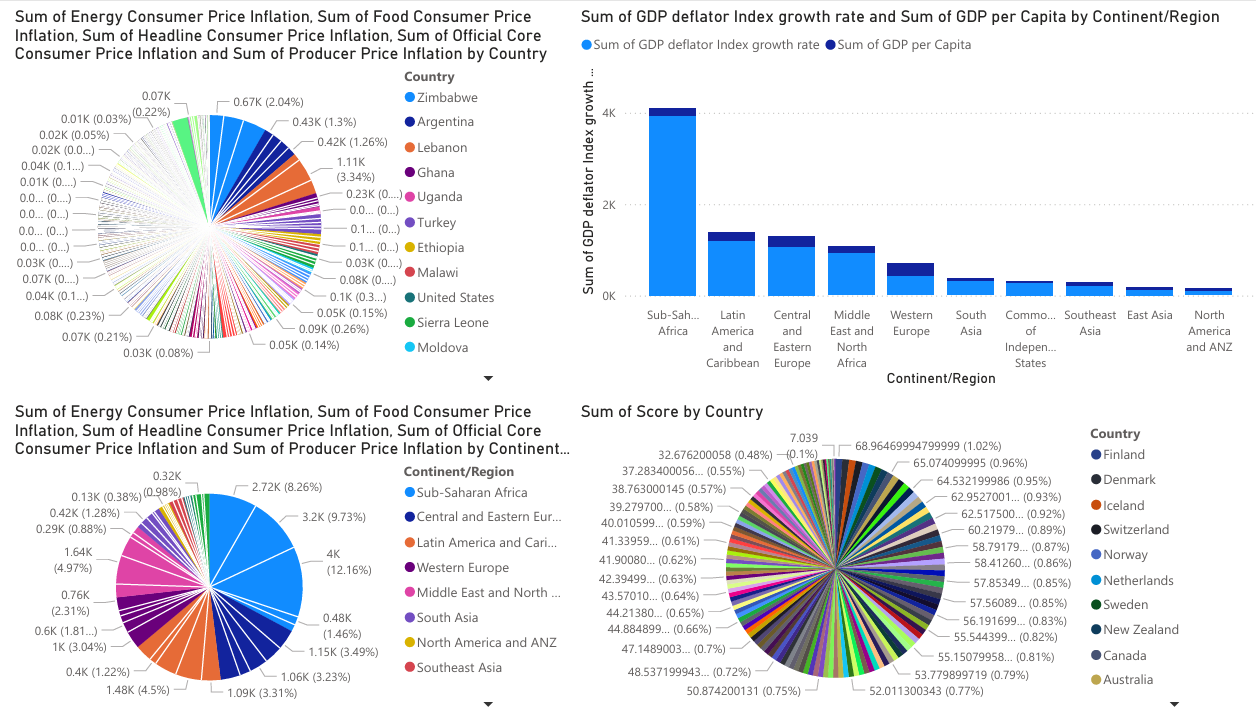

What the dashboard file says about the page in this screenshot:
{"tool":"powerbi","page":{"name":"Page 1","canvas":[1280,720],"ordinal":0},"visuals":[{"type":"pieChart","fields":{"Category":["Table1.Country"],"Y":["Sum(Table1.Energy Consumer Price Inflation)","Sum(Table1.Food Consumer Price Inflation)","Sum(Table1.Headline Consumer Price Inflation)","Sum(Table1.Official Core Consumer Price Inflation)","Sum(Table1.Producer Price Inflation)"]},"box":[10.9,0,573.5,390.2],"z":0},{"type":"columnChart","fields":{"Category":["Table1.Continent/Region"],"Y":["Sum(Table1.GDP deflator Index growth rate)","Sum(Table1.GDP per Capita)"]},"box":[584.4,0,695.1,390.2],"z":1},{"type":"pieChart","fields":{"Category":["Table1.Continent/Region"],"Y":["Sum(Table1.Energy Consumer Price Inflation)","Sum(Table1.Food Consumer Price Inflation)","Sum(Table1.Headline Consumer Price Inflation)","Sum(Table1.Official Core Consumer Price Inflation)","Sum(Table1.Producer Price Inflation)"]},"box":[11,400,573,320],"z":2},{"type":"pieChart","fields":{"Category":["Table1.Country"],"Y":["Sum(Table1.Score)"]},"box":[584,400,695,320],"z":3}]}

Visuals, with their boxes in screenshot pixels (x1, y1, x2, y2), scaled from the page's 1280x720 canvas onto the 1256x717 screenshot:
pieChart - Table1.Country x Sum(Table1.Energy Consumer Price Inflation): (11,0,573,389)
columnChart - Table1.Continent/Region x Sum(Table1.GDP deflator Index growth rate): (573,0,1255,389)
pieChart - Table1.Continent/Region x Sum(Table1.Energy Consumer Price Inflation): (11,398,573,716)
pieChart - Table1.Country x Sum(Table1.Score): (573,398,1255,716)
